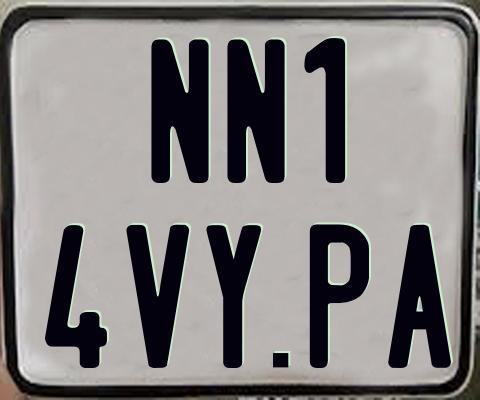1: (304, 35, 351, 186)
4: (43, 225, 109, 370)
A: (385, 223, 452, 372)
N: (150, 38, 213, 183), (226, 37, 284, 185)
P: (310, 222, 372, 370)
V: (125, 224, 193, 373)
Y: (206, 222, 265, 369)
